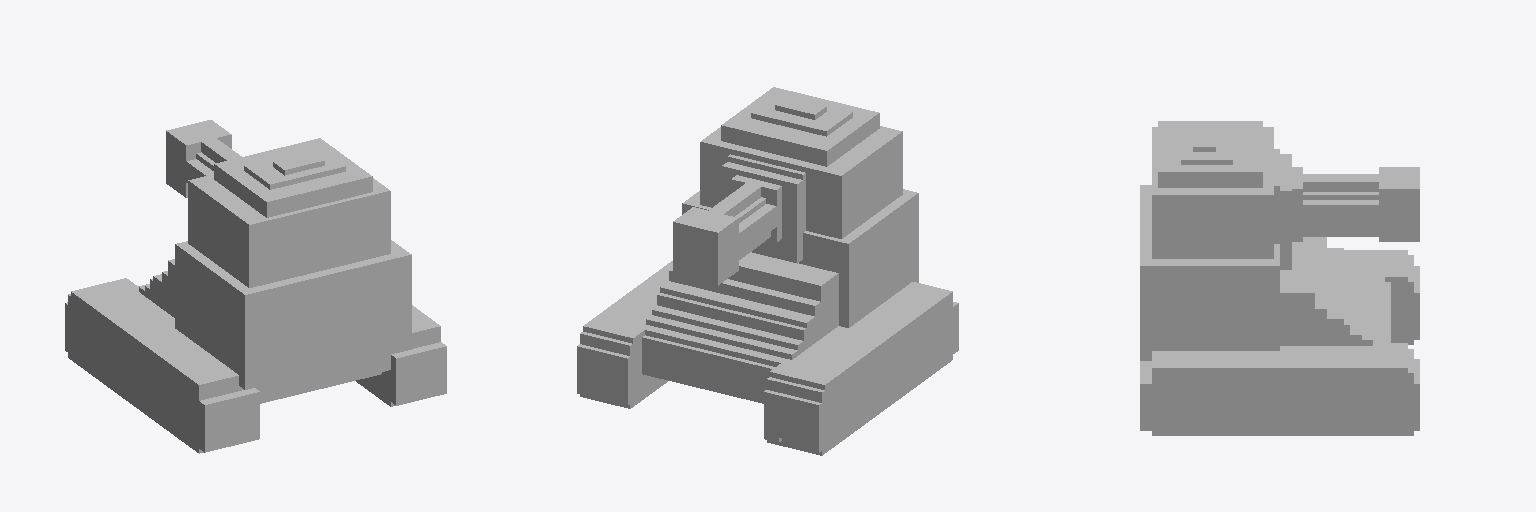
Rendered from tank1.obj.
The picture shows the model from 3 angles: view 1: azimuth 30°, elevation 25°; view 2: azimuth 150°, elevation 25°; view 3: azimuth 270°, elevation 25°; orthographic projection.
Visible parts, largest first — view 1: cube; view 2: cube; view 3: cube.
Part boxes in pixels (x1,y1,x2,y2): cube: (65, 120, 446, 453); cube: (577, 87, 958, 455); cube: (1140, 121, 1419, 435).
Bounding box in the file's own units: 0.75 × 0.7188 × 0.75.